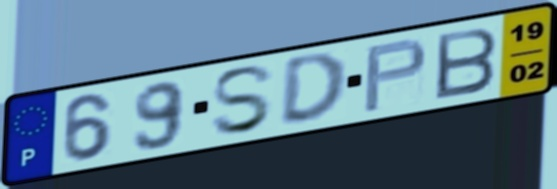6: (61, 91, 117, 163)
9: (130, 79, 188, 151)
B: (433, 24, 501, 102)
D: (277, 50, 351, 127)
P: (360, 36, 431, 116)
S: (209, 62, 279, 137)
